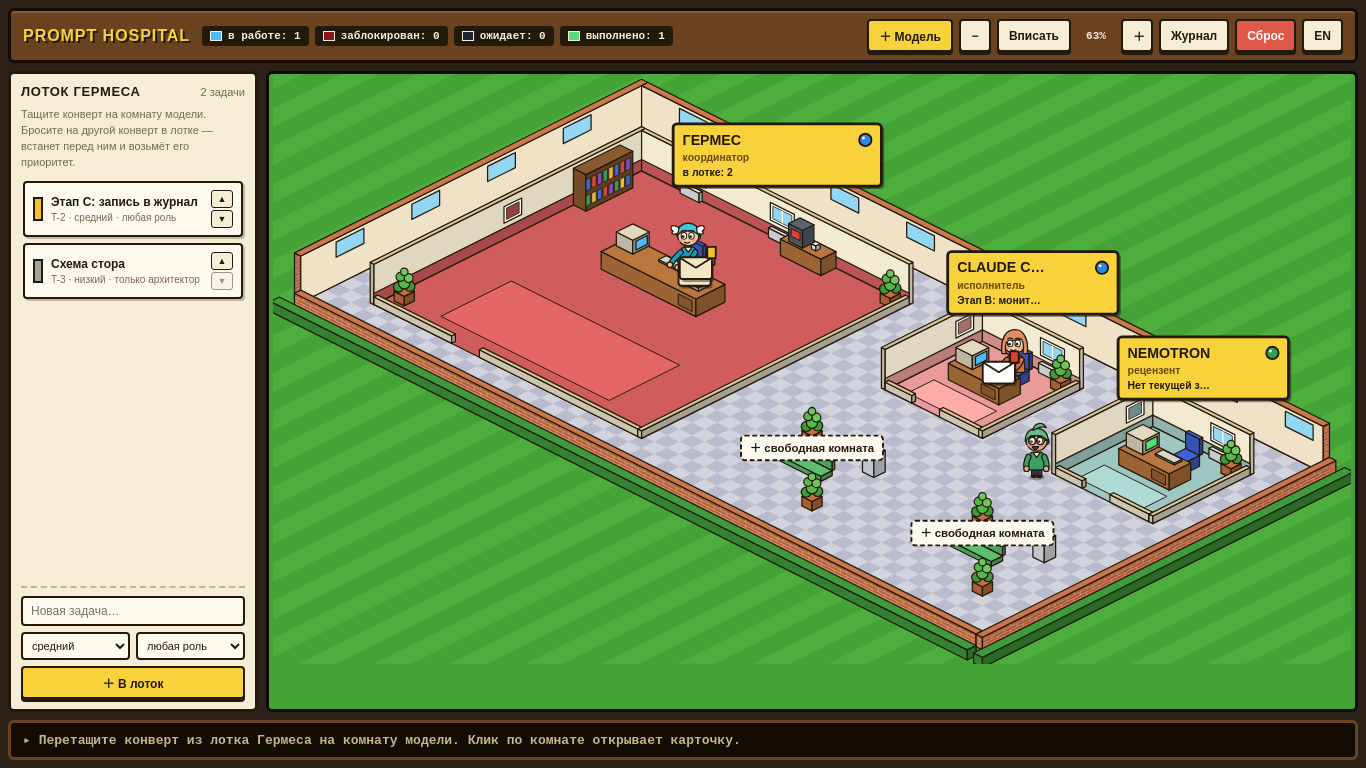
App: запись в журнал оркестратора (check → POST /op → journal) › check() с ошибкой — POST не уходит, err в MessageBar
Press the mouse on the list item "Схема стора T-3 · низкий · только архитектор ▲ ▼": point(133, 271) [23,243,243,299]
Wait 450 ms
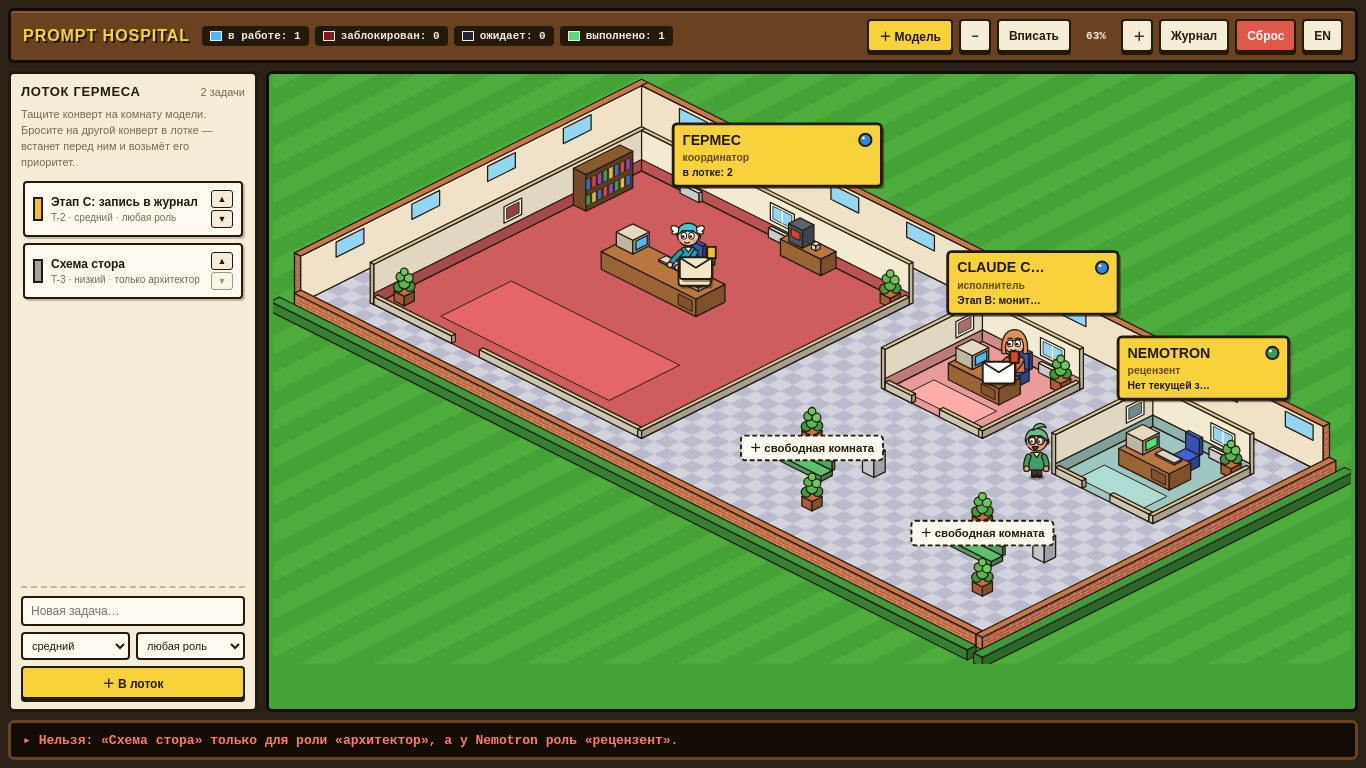
Now the message shows "архитектор", box [39,733,678,748]
